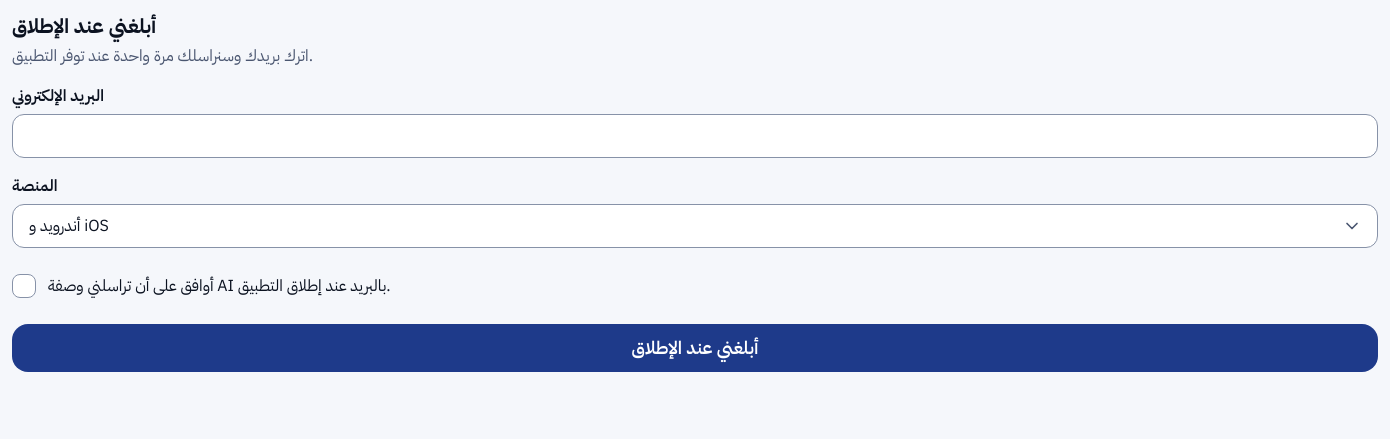
it: AppWaitlistForm › sends nothing without a valid email and an explicit consent
Type "not-an-email" into the field labelled "البريد الإلكتروني" at {"x": 695, "y": 136}, box [12,114,1378,158]
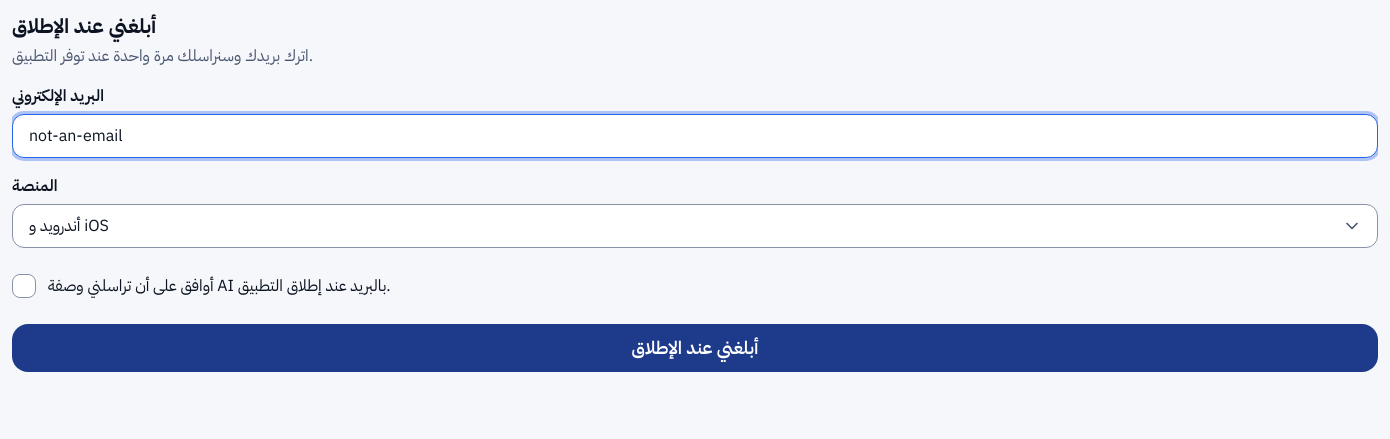
Click the button "أبلغني عند الإطلاق" at {"x": 695, "y": 348}, box [12,324,1378,372]
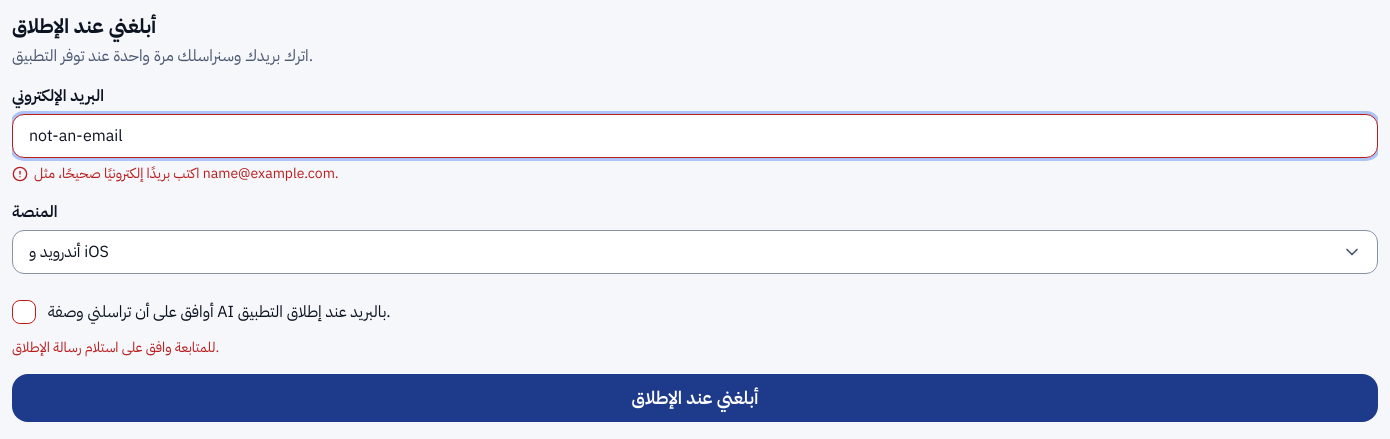
Expected: the text "للمتابعة وافق على استلام رسالة الإطلاق." is shown, [12,337,219,358]
